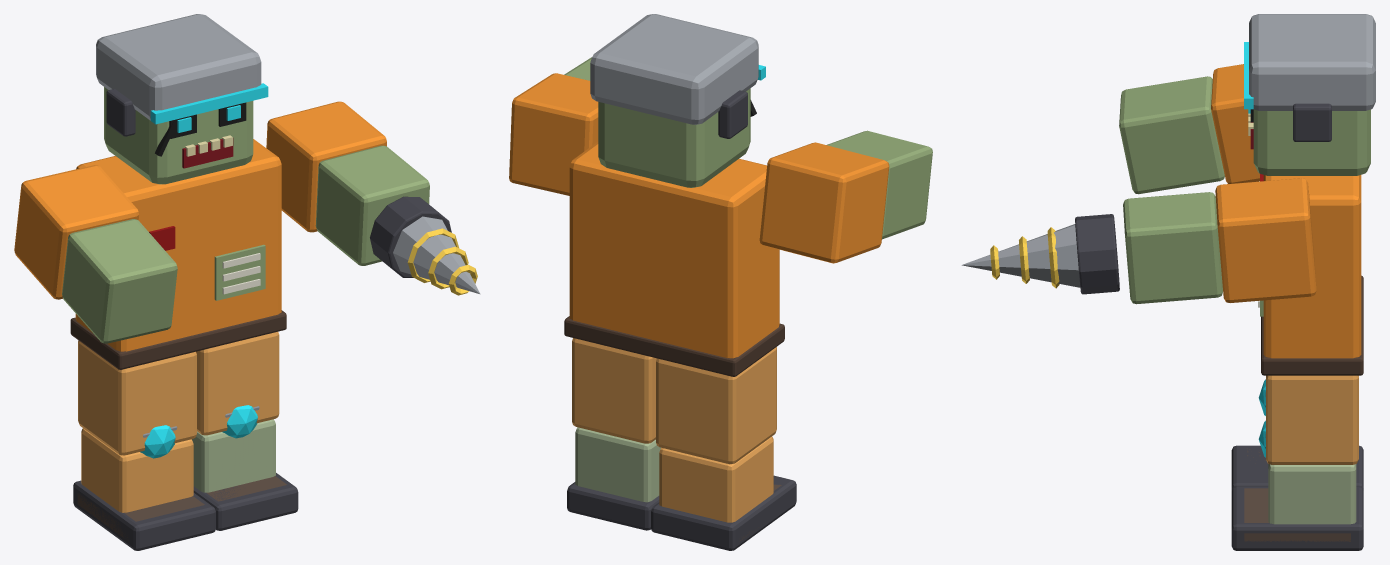
File: zombi_mecanico.glb
The picture shows the model from 3 angles, left to right: view 1: azimuth 30°, elevation 25°; view 2: azimuth 150°, elevation 25°; view 3: azimuth 270°, elevation 25°; orthographic projection. The views are drawn at different scales.
Parts seen in each view (by area): view 1: Torso, Head, RightArm, LeftArm, Cube.022, Cube.025, Cube.023, LeftLeg, Cube.026, RightLeg, Cube.024, Cube.027; view 2: Torso, Head, LeftArm, Cube.022, RightArm, Cube.025, Cube.023, Cube.026, LeftLeg, RightLeg; view 3: RightArm, Head, Torso, LeftArm, Cube.025, Cube.026, RightLeg, LeftLeg, Cube.027.
Part boxes in pixels (<box>): Torso: <box>70,139,286,369</box>; Head: <box>96,14,268,184</box>; RightArm: <box>266,101,480,295</box>; LeftArm: <box>14,165,177,343</box>; Cube.022: <box>78,340,196,455</box>; Cube.025: <box>196,331,279,435</box>; Cube.023: <box>81,428,193,512</box>; LeftLeg: <box>73,425,215,550</box>; Cube.026: <box>192,419,275,492</box>; RightLeg: <box>193,405,298,530</box>; Cube.024: <box>77,493,204,541</box>; Cube.027: <box>206,476,286,501</box>; Torso: <box>564,141,784,376</box>; Head: <box>590,14,765,187</box>; LeftArm: <box>759,130,932,263</box>; Cube.022: <box>656,347,776,464</box>; RightArm: <box>509,57,598,195</box>; Cube.025: <box>572,338,656,443</box>; Cube.023: <box>659,436,773,522</box>; Cube.026: <box>575,427,660,502</box>; LeftLeg: <box>651,475,796,550</box>; RightLeg: <box>567,482,659,530</box>; RightArm: <box>961,178,1316,304</box>; Head: <box>1244,14,1375,175</box>; Torso: <box>1258,174,1363,375</box>; LeftArm: <box>1119,64,1259,194</box>; Cube.025: <box>1266,375,1358,464</box>; Cube.026: <box>1268,464,1356,524</box>; RightLeg: <box>1231,420,1363,550</box>; LeftLeg: <box>1231,379,1363,490</box>; Cube.027: <box>1244,488,1350,542</box>.
Size of the model in its own units: 4 by 5.34 by 4.24.
Materials: 4 (1 with a texture image).
